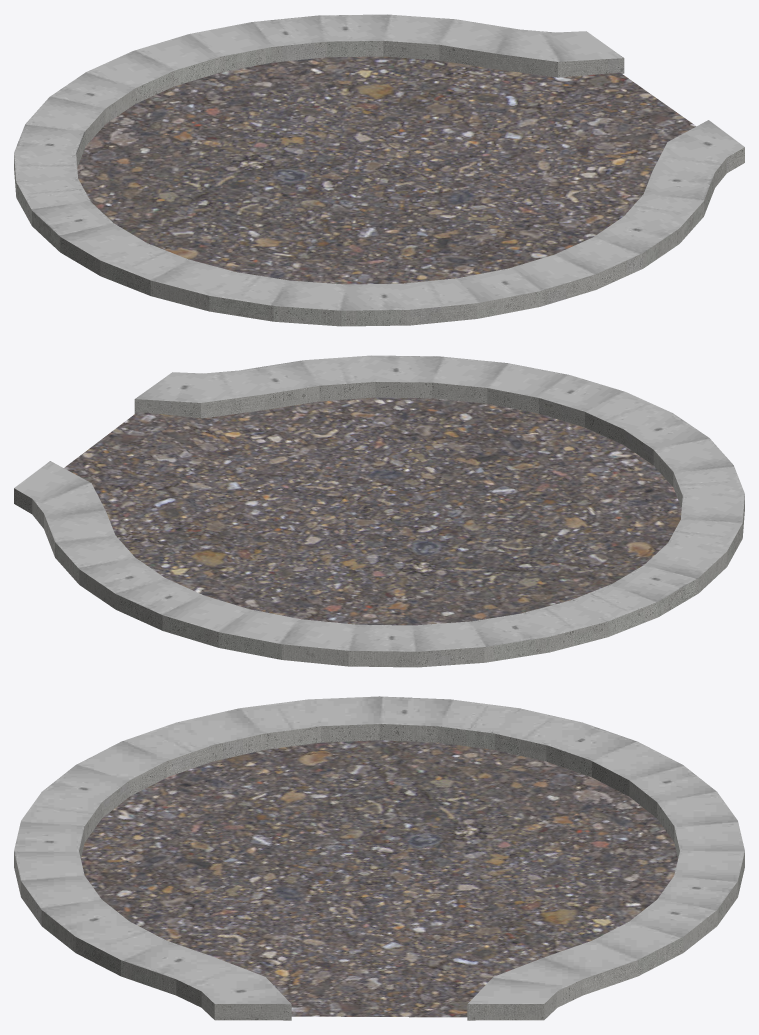
File: culdesac.fbx
3 views of the same model, one above another, from view 1: azimuth 30°, elevation 25°; view 2: azimuth 150°, elevation 25°; view 3: azimuth 270°, elevation 25° (orthographic). The views are drawn at different scales.
Visible parts, largest first — view 1: Road, Sidewalk; view 2: Road, Sidewalk; view 3: Road, Sidewalk.
Part boxes in pixels (left/top/right/bottom): Road: left=77, top=56, right=696, bottom=284; Sidewalk: left=14, top=14, right=744, bottom=326; Road: left=64, top=397, right=681, bottom=625; Sidewalk: left=14, top=355, right=744, bottom=667; Road: left=81, top=740, right=677, bottom=1017; Sidewalk: left=14, top=696, right=744, bottom=1020.
Size of the model in its own units: 1211 by 30 by 1216.
